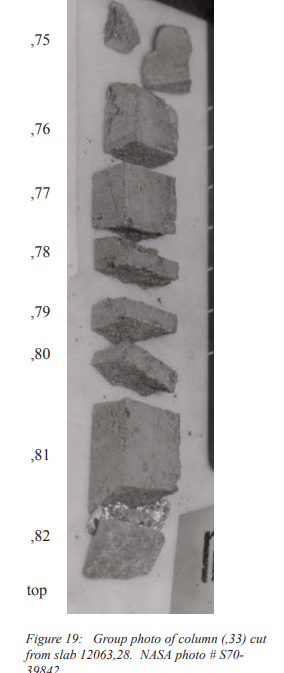Basalt: (71, 405, 214, 580), (72, 287, 207, 396), (67, 4, 205, 86), (70, 102, 222, 167), (78, 181, 205, 240)
